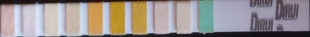color 1: (1, 6, 12, 35)
color 10: (199, 1, 213, 31)
color 2: (22, 6, 36, 35)
color 3: (45, 5, 57, 34)
color 4: (67, 5, 79, 35)
color 5: (89, 3, 102, 34)
color 6: (110, 3, 124, 33)
color 7: (133, 3, 146, 33)
color 8: (155, 3, 167, 32)
color 9: (177, 2, 190, 32)
